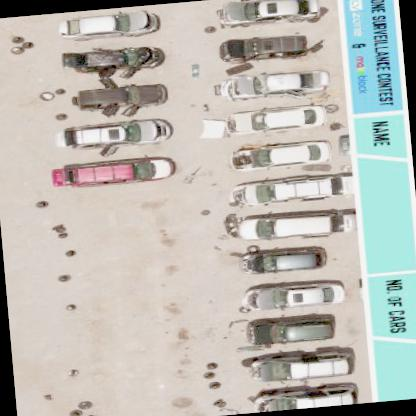car: (234, 208, 359, 242), (53, 116, 172, 151), (54, 155, 176, 189), (219, 67, 332, 102), (248, 348, 356, 383), (62, 40, 164, 76), (231, 138, 334, 173), (224, 103, 328, 136), (240, 280, 346, 312), (233, 176, 342, 206), (61, 9, 160, 42), (254, 382, 360, 412), (216, 31, 312, 64), (217, 0, 324, 29), (241, 316, 336, 348), (236, 244, 328, 276), (77, 80, 168, 110)
